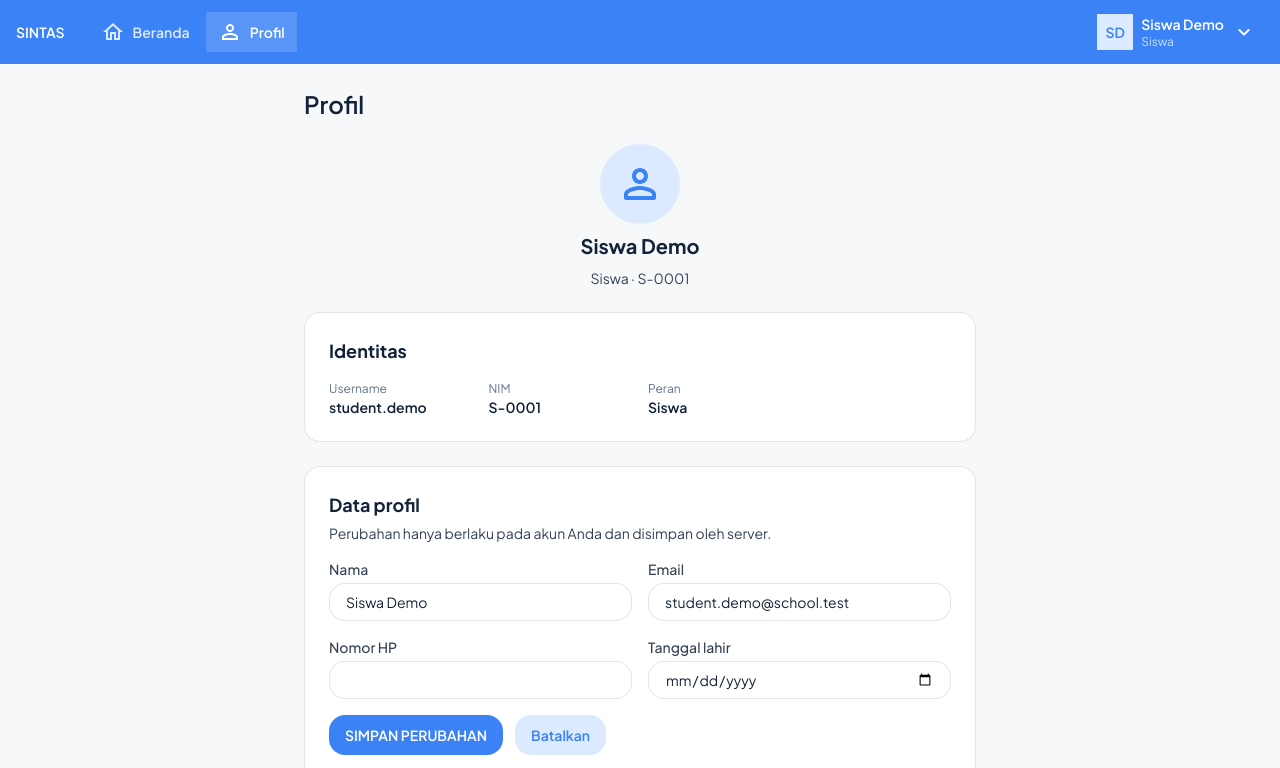
halaman profil › menyimpan perubahan profil tanpa username, NIM, atau role
Check: the heading "Profil" is shown, box [304, 89, 364, 119]
Replace the text in the field labelled "Nama" with "Nama Baru" at x=480, y=602, box [329, 583, 632, 621]
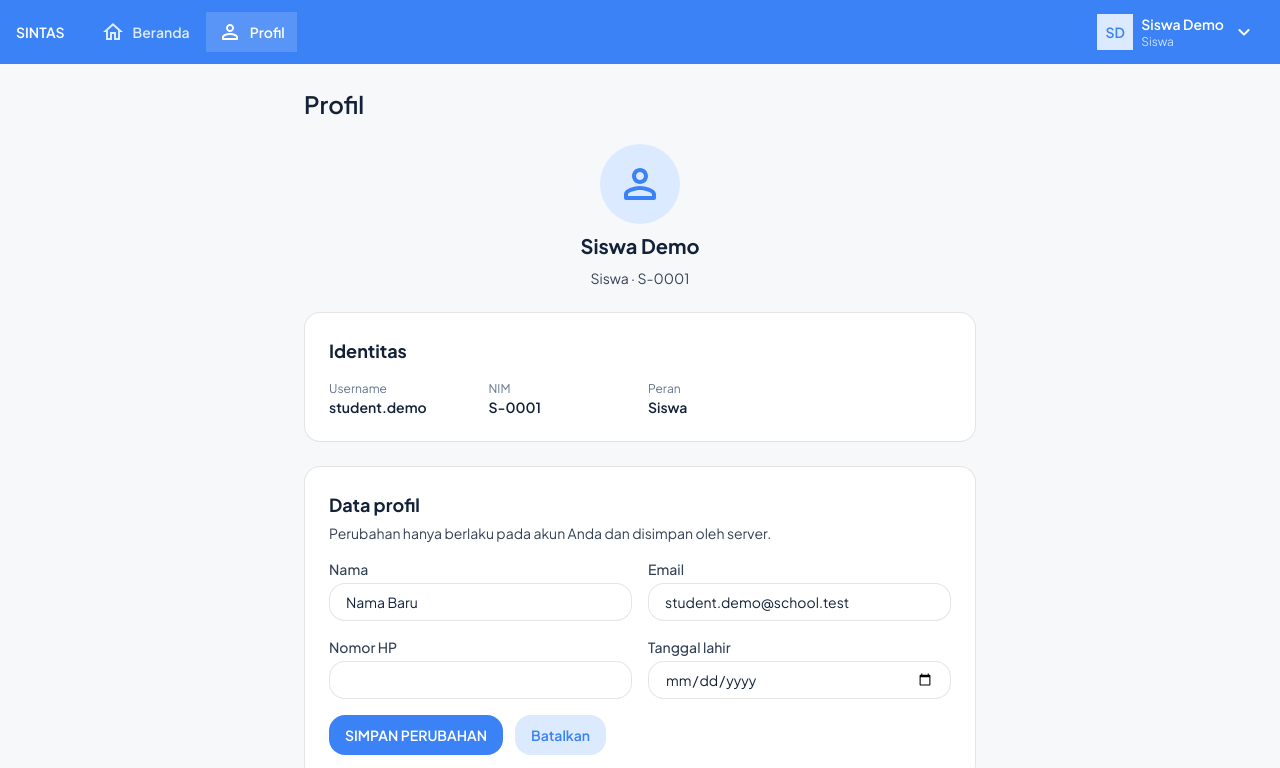
Click the button "Simpan perubahan" at x=416, y=735, box [329, 715, 503, 755]
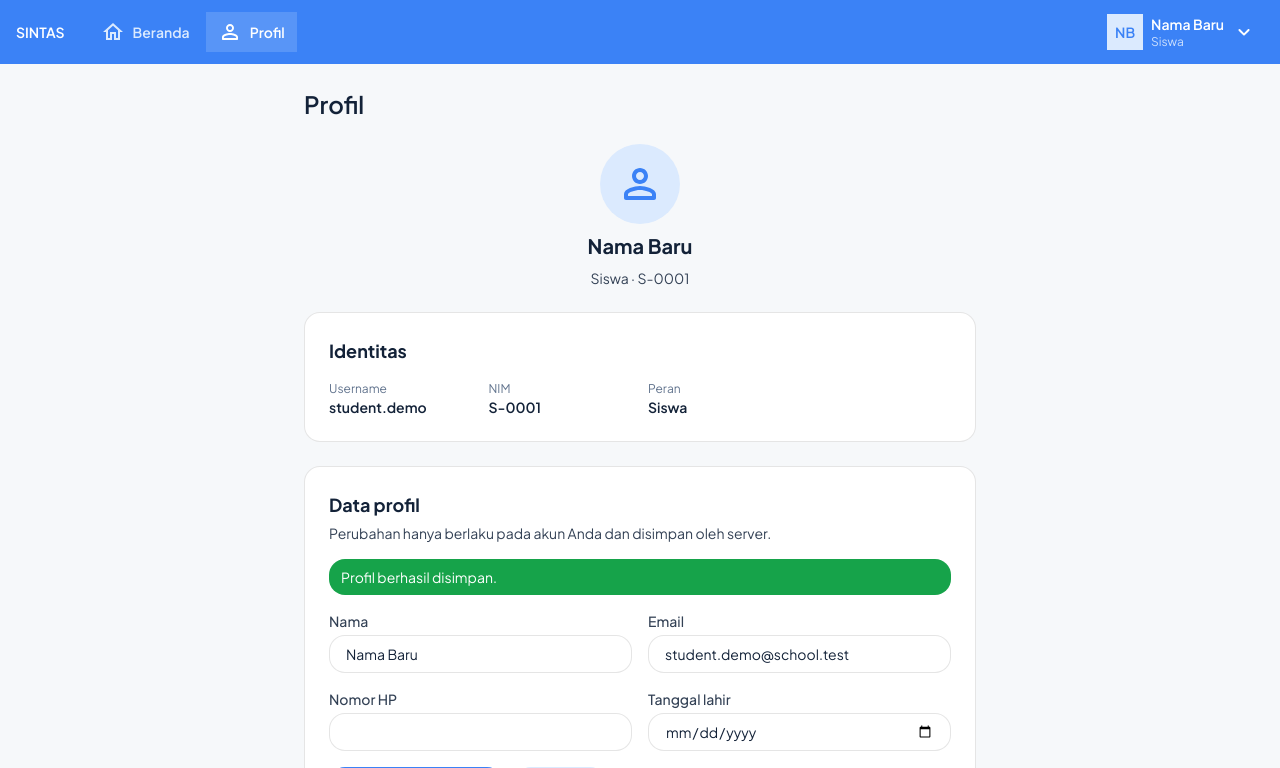
Check: the text "Profil berhasil disimpan." is shown, box [329, 559, 951, 595]
Check: the text "Nama Baru" in the row of "Beranda" is shown, box [1151, 15, 1224, 33]
